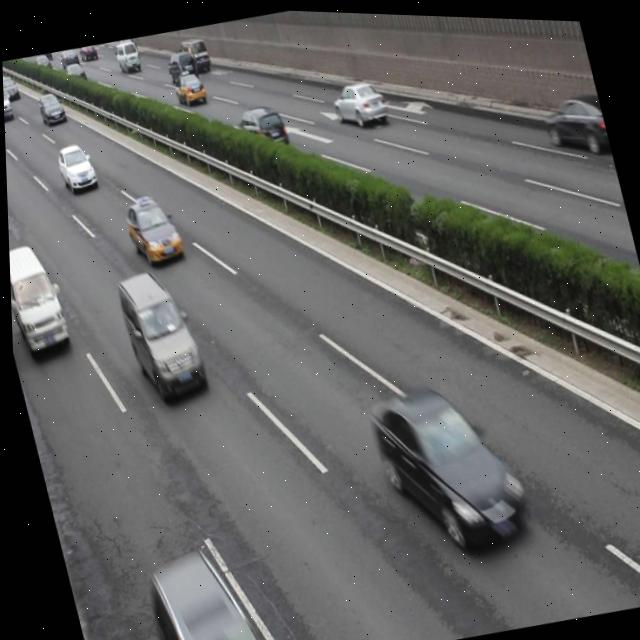car: (362, 365, 532, 559), (139, 543, 273, 640), (536, 85, 611, 161), (121, 190, 185, 267), (328, 74, 389, 130), (233, 99, 290, 155), (55, 141, 97, 194), (171, 66, 207, 108), (36, 90, 65, 125), (63, 58, 86, 83), (2, 72, 19, 100)
truck: (111, 263, 208, 405), (7, 239, 71, 361), (177, 34, 213, 76), (164, 46, 199, 87), (113, 38, 141, 73), (2, 80, 13, 121)
